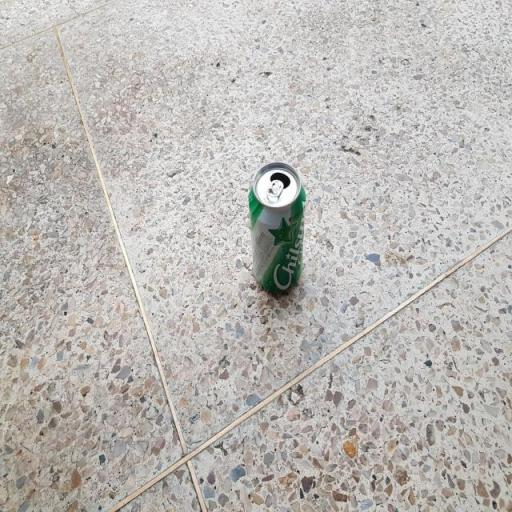metal: (238, 162, 322, 308)
